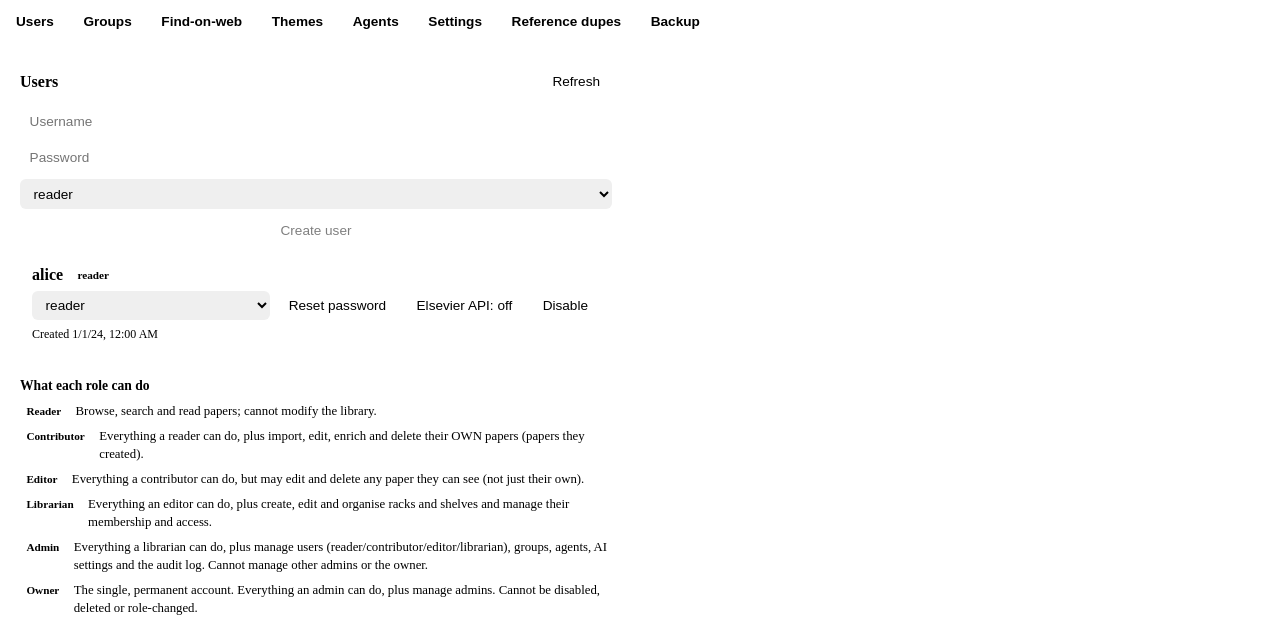
Test: AdminPage groups section › scans reference dupes from the Reference dupes tab
This screenshot has width=1269, height=632.
Click the button "Reference dupes" at (566, 22), box top-left (500, 8), bottom-right (633, 36)
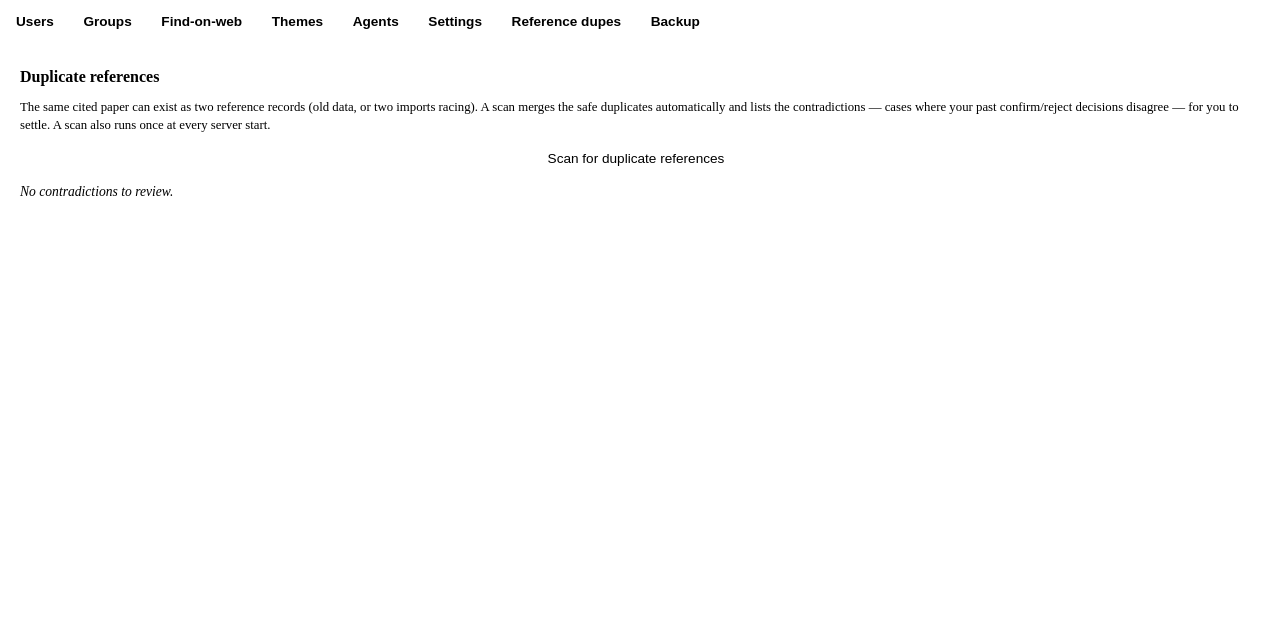
expect the text "No contradictions to review." is shown: met, box top-left (20, 184), bottom-right (173, 199)
Click the button "Scan for duplicate references" at (636, 158), box top-left (20, 144), bottom-right (1252, 172)
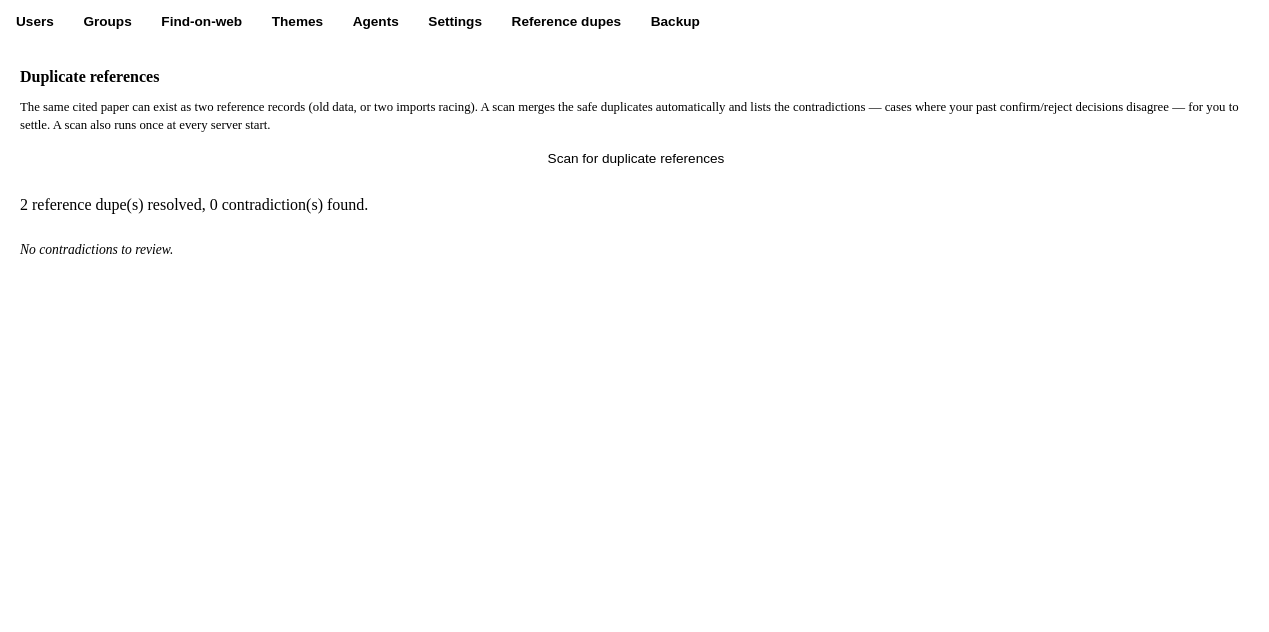
expect the text "2 reference dupe(s) resolved, 0 contradiction(s) found." is shown: met, box top-left (20, 196), bottom-right (368, 213)
